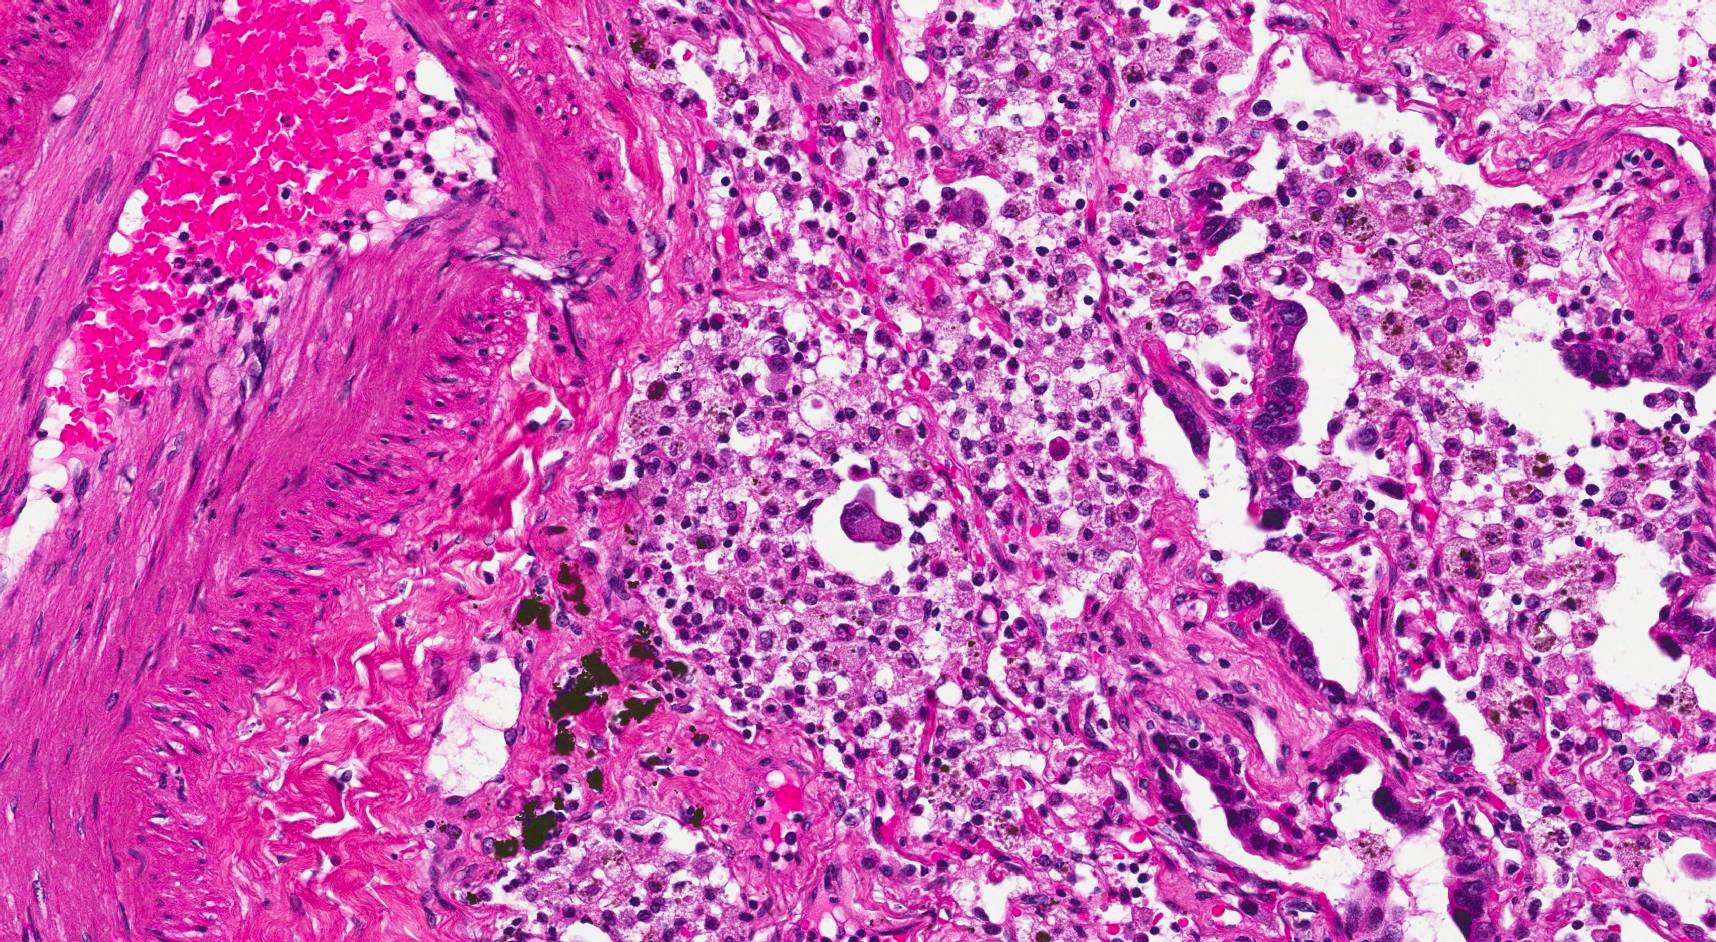stas: (1552, 333, 1638, 393), (836, 485, 902, 558)
